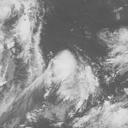cyclone: (44, 47, 89, 103)
